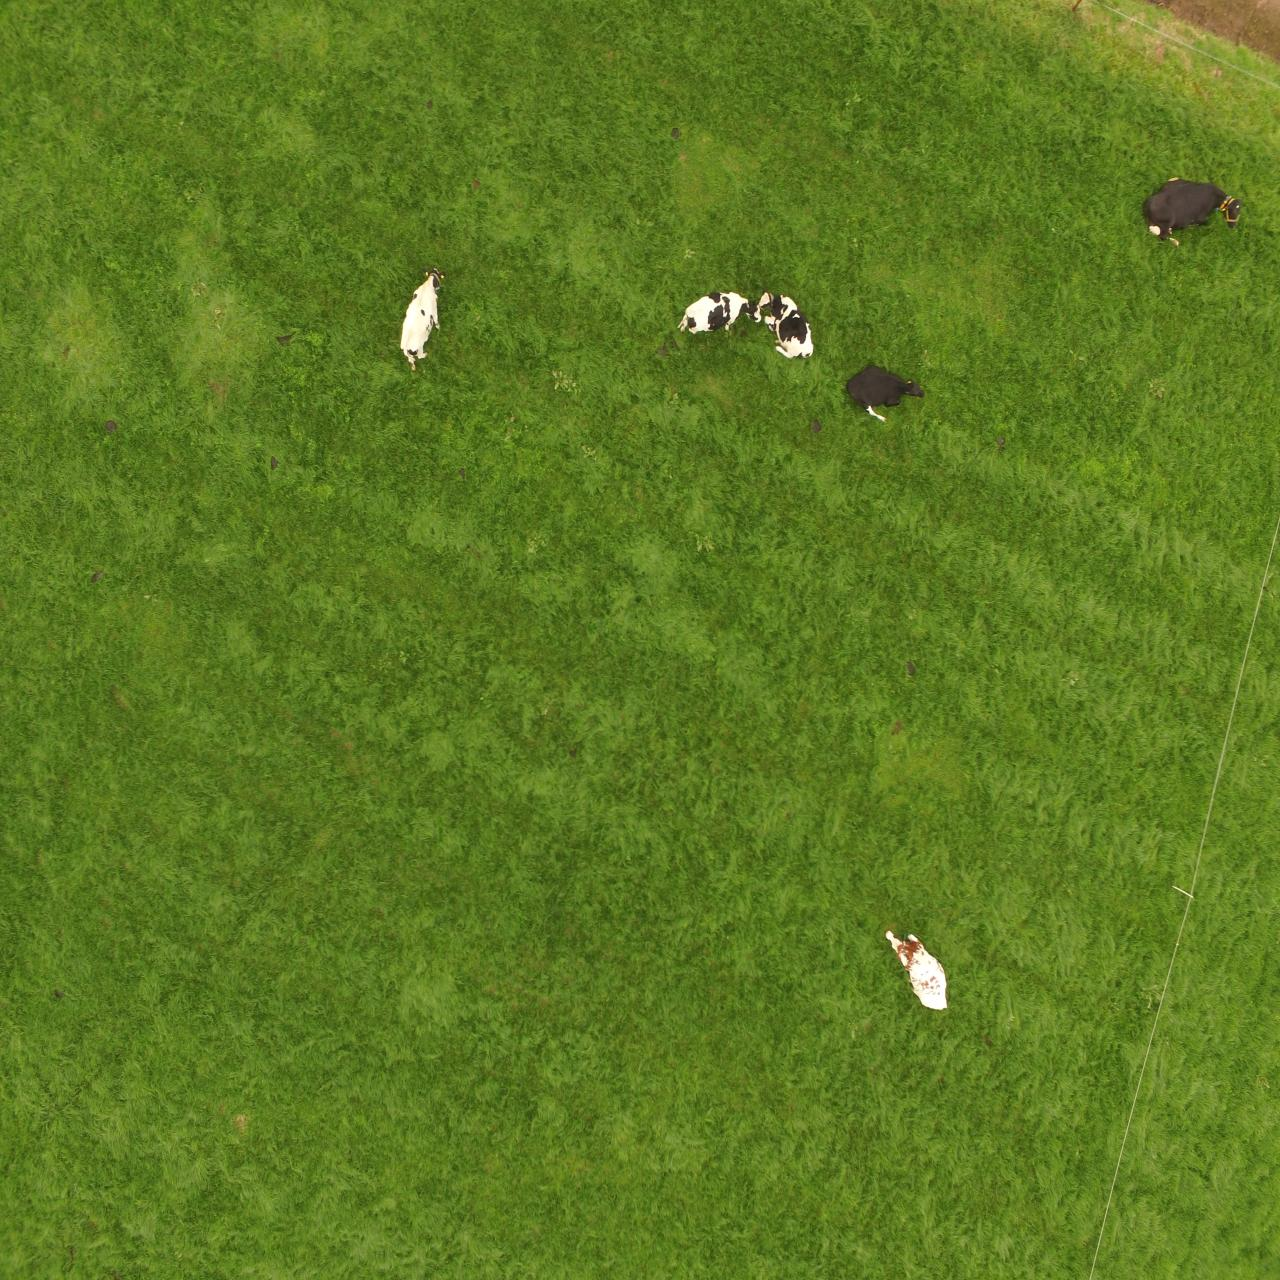cow: (1144, 185, 1241, 251), (884, 922, 952, 1015), (840, 356, 930, 427), (397, 261, 451, 376), (758, 292, 821, 362), (675, 292, 754, 340)
